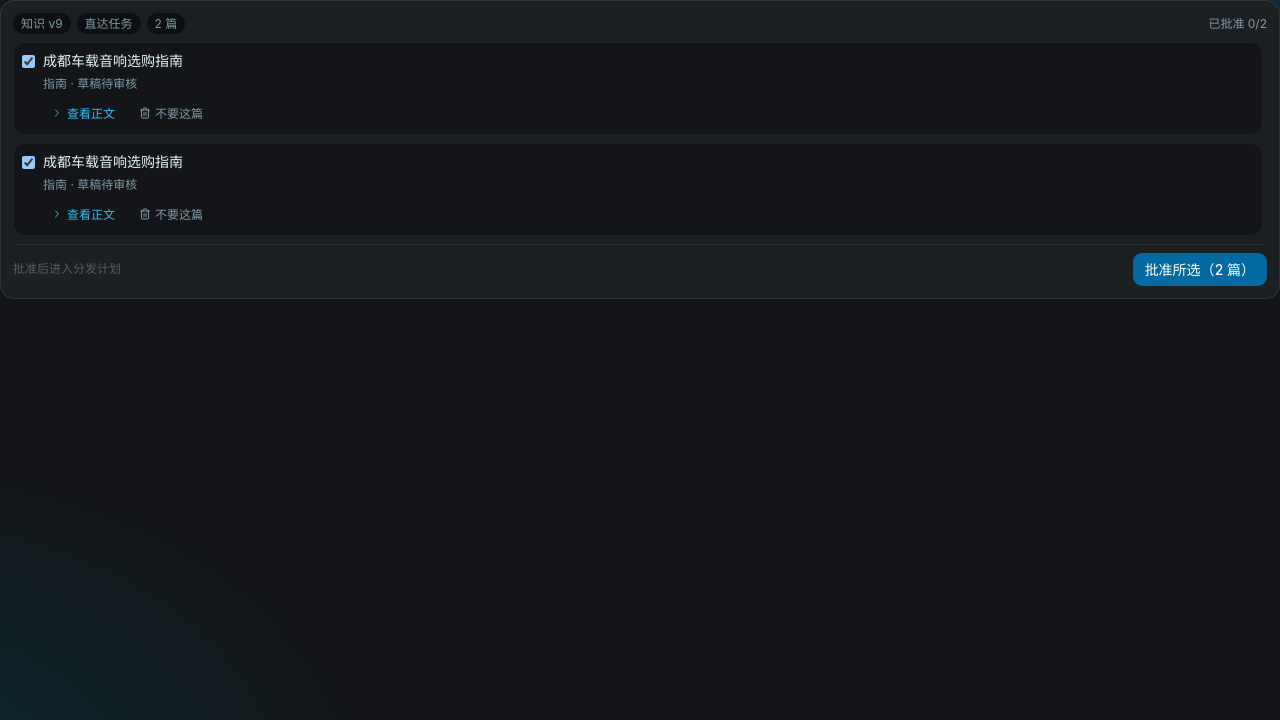
ArticleApprovalGateCard › approves every pending article sequentially and shows the done banner
The image size is (1280, 720).
expect the text "已批准 0/2" is shown: met, box 1208,15 -> 1267,32
Click the button "批准所选（2 篇）": (1200, 270) 1133,253 -> 1267,286
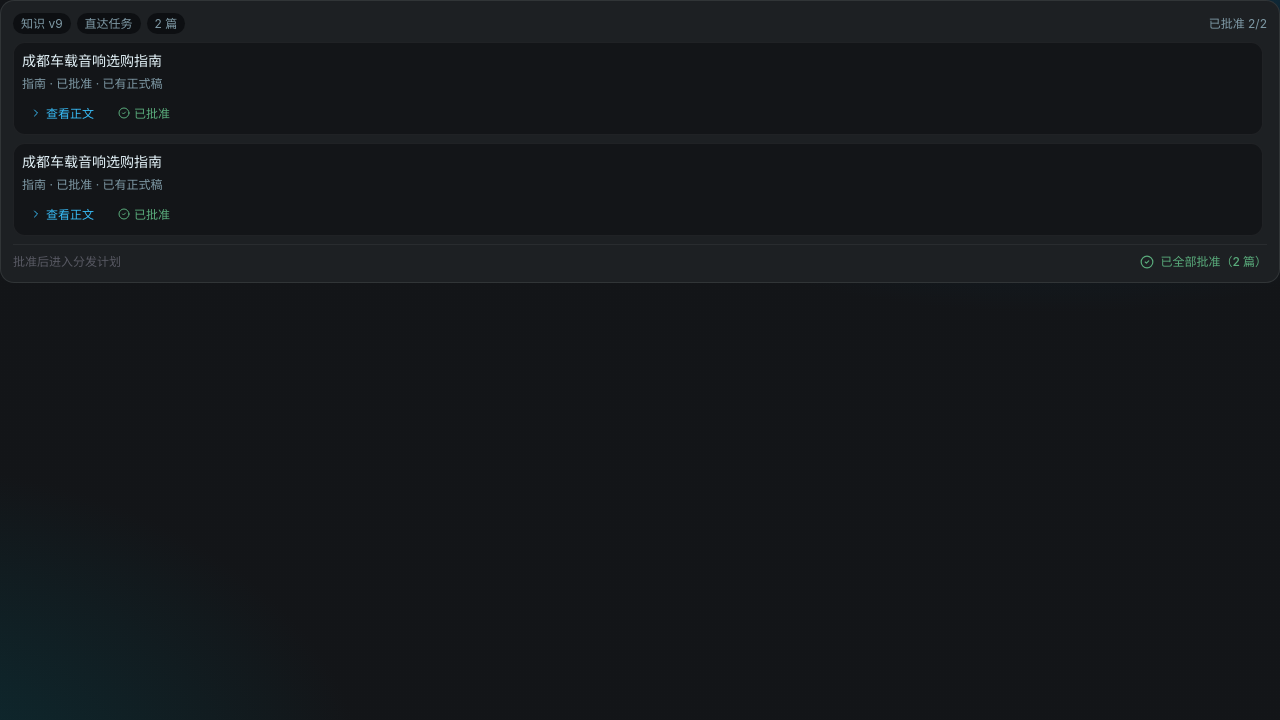
expect the text "已全部批准（2 篇）" is shown: met, box 1140,253 -> 1267,270
expect the button "批准所选" is gone: met
